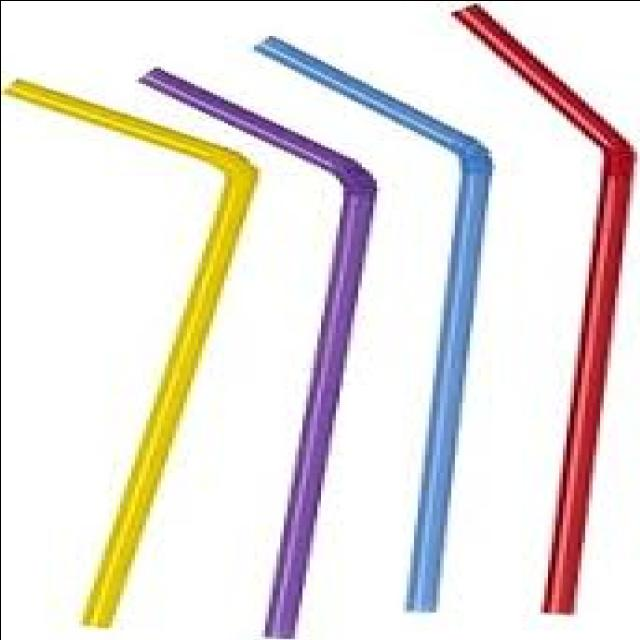straw: (255, 36, 491, 611), (9, 79, 257, 626), (140, 68, 376, 637), (455, 4, 634, 612)
